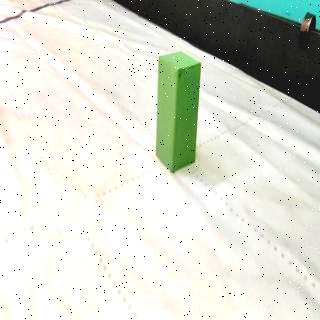greenbox: (156, 54, 202, 176)
